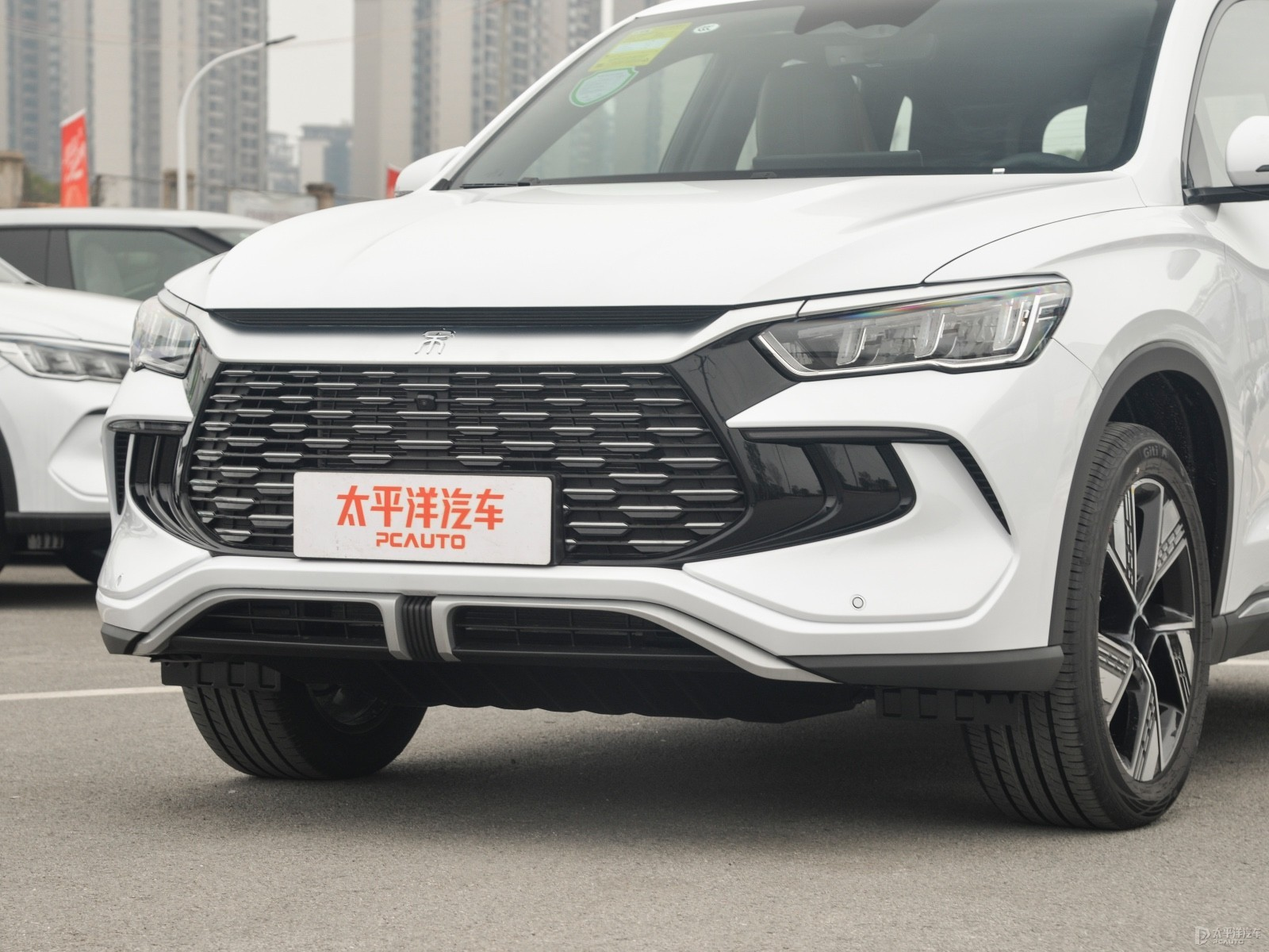BYD Song: (415, 327, 455, 353)
